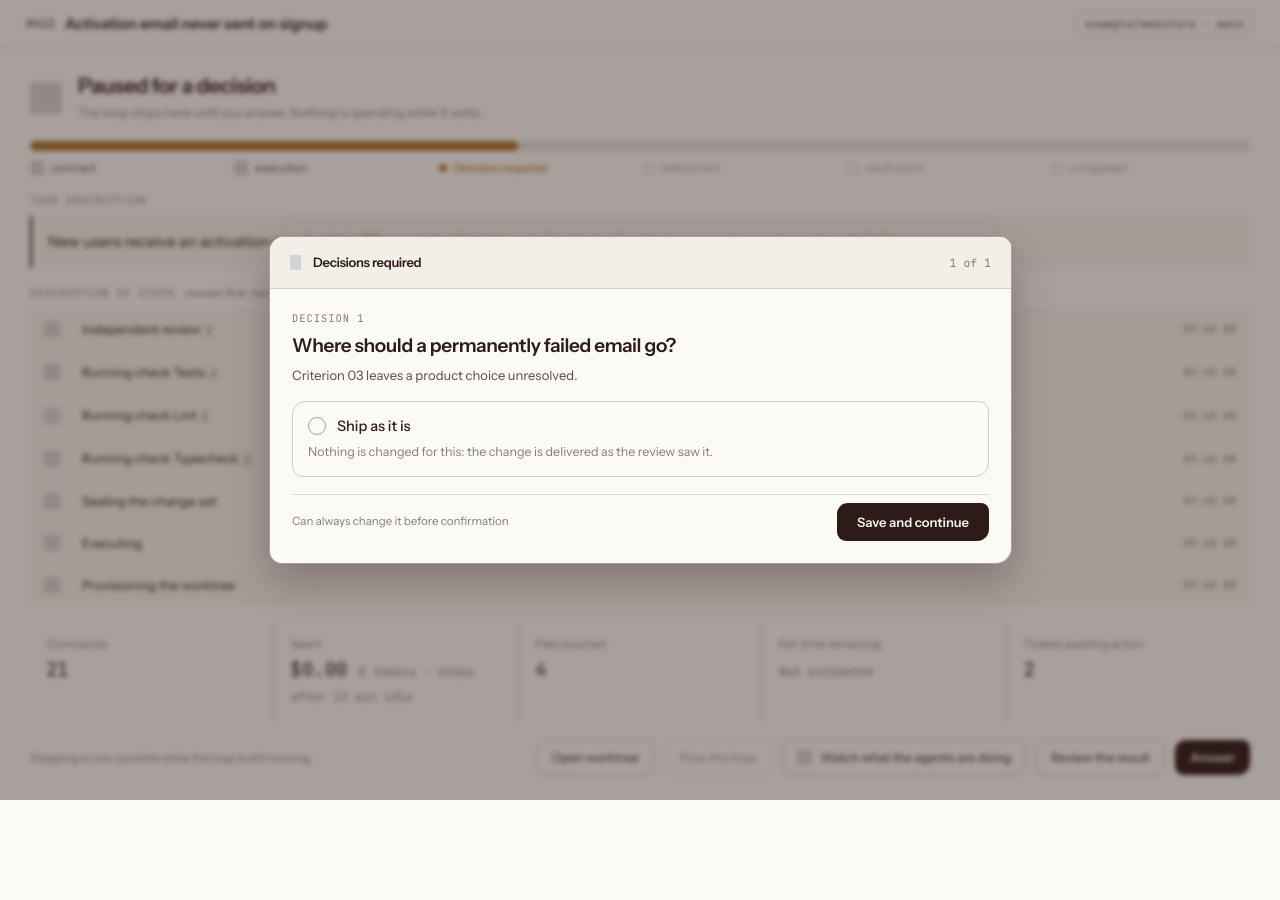
Test case: the three answers a question takes › offers only Ship as it is on a finding the executor is never handed
Click the radio button labelled "Ship as it is" at (316, 427), box [308,418,326,436]
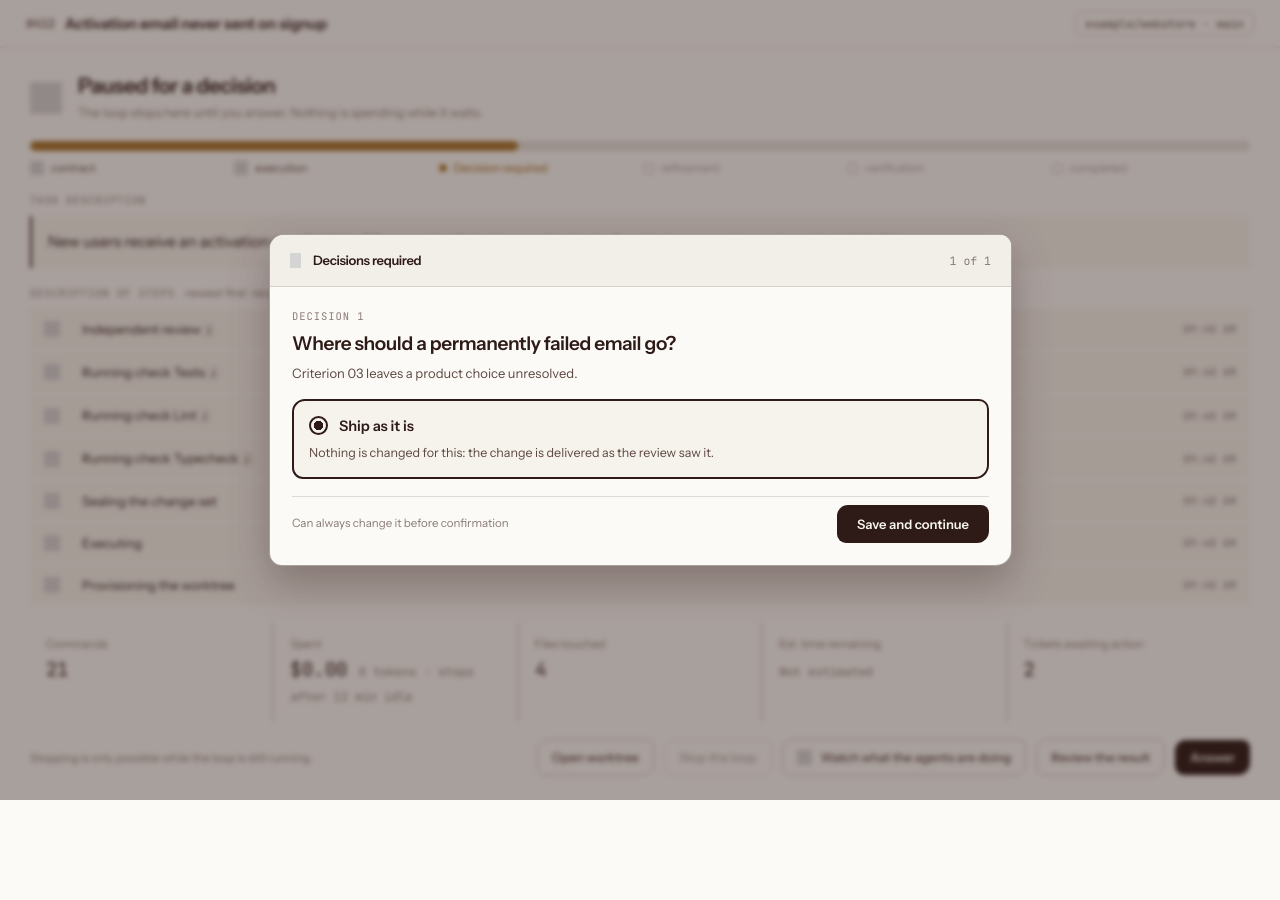
Click the button "Save and continue" at (913, 524), box [837,505,988,543]
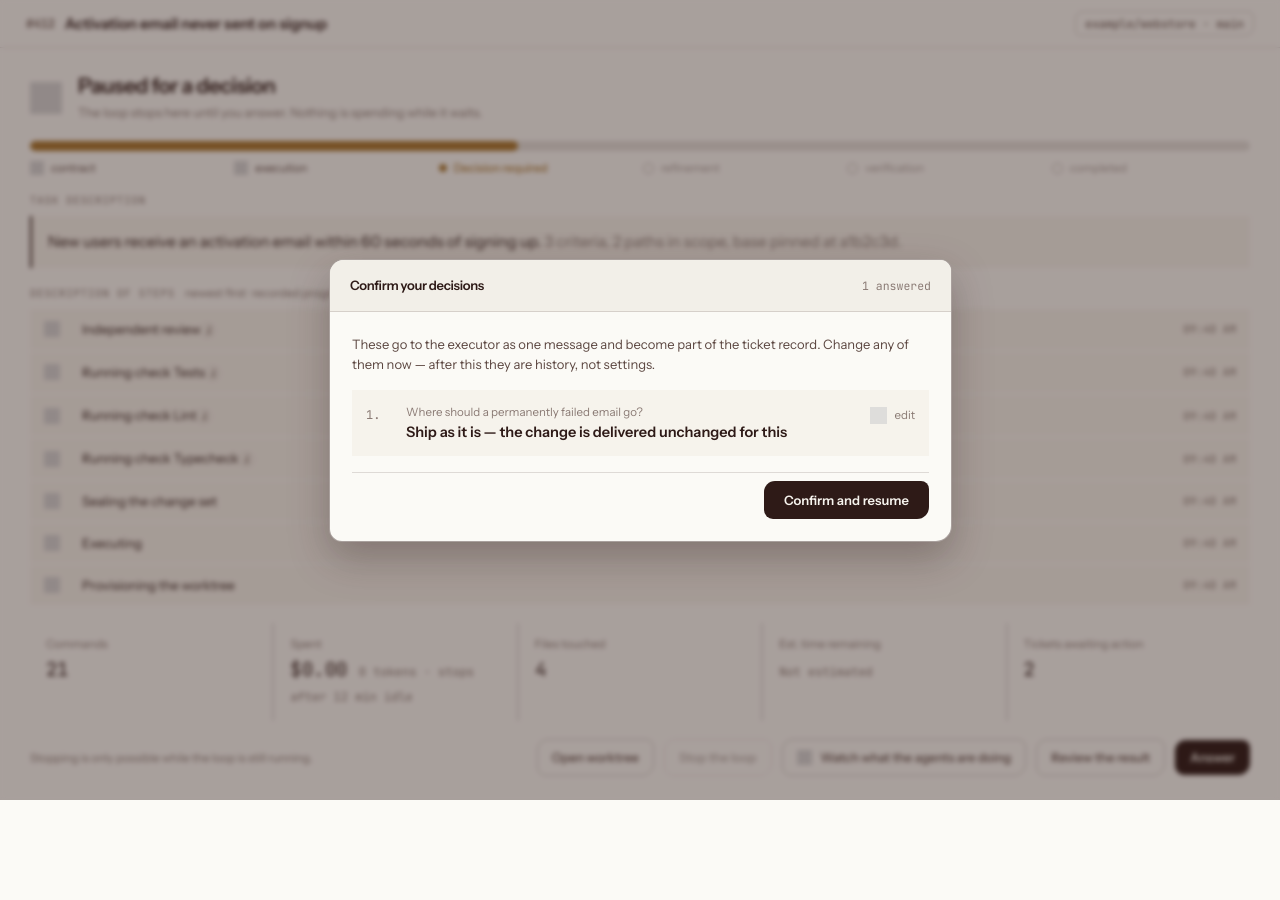
Result: the dialog "Confirm your decisions" is shown at [328,259,952,542]
